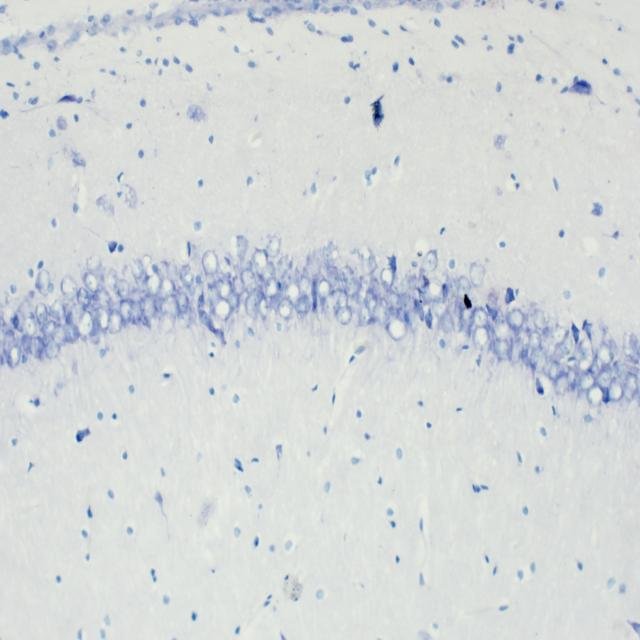neuron: (208, 292, 230, 321), (624, 331, 640, 363), (77, 311, 94, 341), (622, 371, 638, 402), (177, 303, 196, 329), (240, 268, 258, 295), (160, 294, 180, 318), (386, 317, 406, 341), (284, 280, 301, 308), (506, 306, 525, 331), (60, 274, 78, 300), (140, 293, 156, 322), (493, 315, 510, 342), (577, 372, 595, 397), (202, 248, 218, 276), (383, 288, 402, 311), (235, 233, 249, 264), (95, 306, 111, 333), (158, 277, 176, 301), (425, 278, 443, 302), (472, 326, 490, 350), (596, 342, 614, 366), (145, 272, 162, 297), (253, 248, 268, 276), (324, 293, 339, 321), (282, 265, 300, 288), (607, 377, 624, 401), (36, 269, 51, 296), (107, 309, 123, 334), (159, 310, 175, 335), (179, 264, 195, 289), (470, 261, 486, 286), (596, 368, 612, 393), (613, 360, 632, 381), (276, 256, 294, 278), (263, 304, 277, 332), (216, 276, 233, 299), (587, 384, 604, 407), (379, 266, 395, 290), (2, 329, 16, 356), (22, 311, 37, 336), (299, 274, 314, 299), (50, 297, 66, 320), (472, 306, 488, 329), (510, 337, 524, 363), (302, 263, 321, 282), (362, 288, 377, 312), (85, 253, 102, 274), (278, 298, 294, 320), (422, 250, 438, 272), (68, 304, 85, 324), (119, 300, 132, 326), (245, 294, 258, 320), (44, 338, 60, 359), (77, 286, 91, 310), (262, 260, 276, 284), (267, 234, 281, 258), (264, 276, 279, 298), (316, 278, 331, 300), (334, 288, 349, 310), (326, 264, 341, 286), (459, 306, 474, 328), (458, 275, 471, 300), (372, 304, 390, 322), (295, 297, 312, 316), (30, 335, 44, 358), (358, 303, 372, 326), (554, 373, 568, 396), (91, 289, 111, 305), (83, 272, 99, 292), (336, 306, 352, 326), (35, 302, 48, 326), (176, 291, 189, 315), (535, 347, 547, 373), (52, 324, 66, 346), (553, 324, 567, 346), (64, 324, 79, 344), (130, 301, 142, 326), (232, 274, 245, 297), (116, 278, 130, 299), (341, 263, 355, 284), (398, 292, 412, 313), (8, 346, 21, 368), (227, 290, 240, 312), (533, 308, 546, 330), (432, 299, 447, 318), (258, 293, 268, 321), (346, 277, 360, 297), (12, 309, 24, 332), (441, 311, 453, 334), (590, 354, 602, 377), (39, 344, 52, 365), (40, 320, 56, 337), (495, 340, 510, 358), (528, 330, 542, 349), (106, 268, 117, 292), (220, 259, 232, 280), (548, 359, 560, 380), (130, 286, 141, 308), (131, 258, 143, 278), (543, 324, 555, 344), (529, 348, 541, 367), (567, 366, 576, 391), (560, 336, 572, 354), (166, 260, 178, 277), (446, 276, 456, 296), (452, 314, 462, 334), (21, 334, 32, 351), (406, 274, 416, 291), (522, 343, 528, 359), (21, 354, 28, 364)
